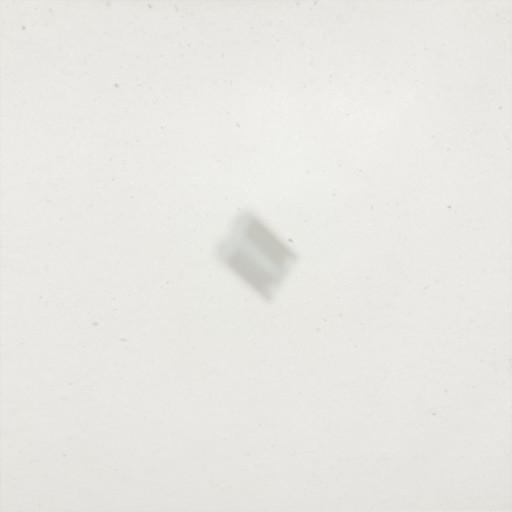lego: (212, 205, 301, 305)
